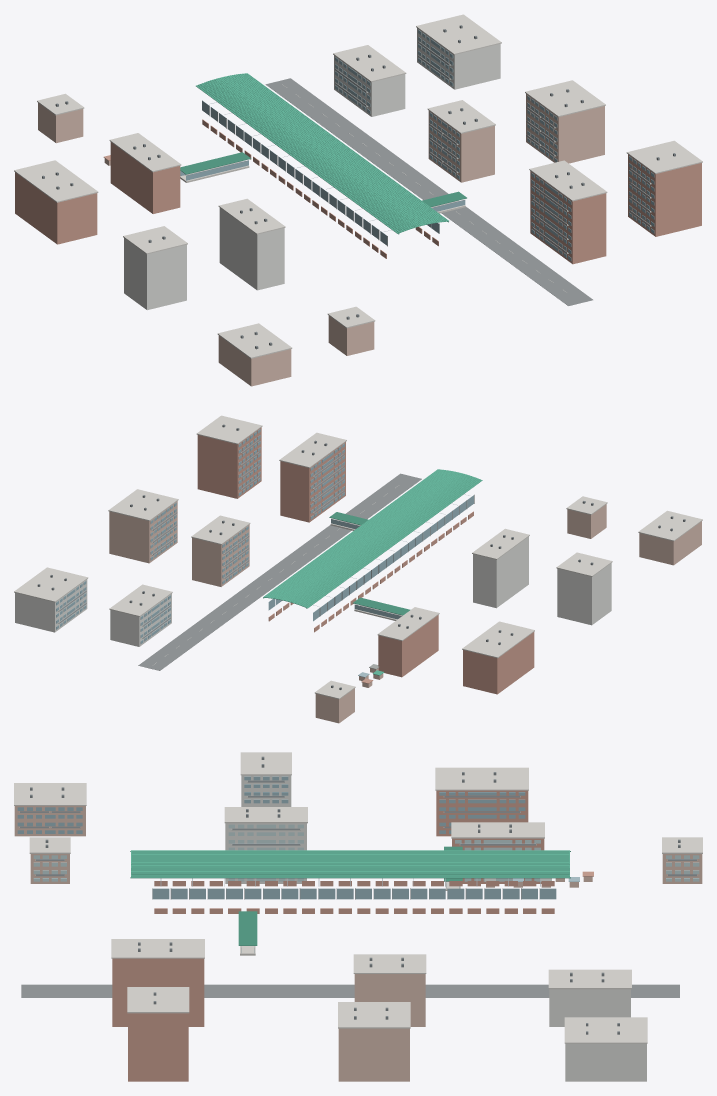
3 views of the same model, one above another, from view 1: azimuth 30°, elevation 25°; view 2: azimuth 150°, elevation 25°; view 3: azimuth 270°, elevation 25° (orthographic). The views are drawn at different scales.
Visible parts, largest first — view 1: Station 7 photo-informed architecture and surroundings; view 2: Station 7 photo-informed architecture and surroundings; view 3: Station 7 photo-informed architecture and surroundings.
Part boxes in pixels (bbox=[...]): Station 7 photo-informed architecture and surroundings: bbox=[14, 14, 702, 386]; Station 7 photo-informed architecture and surroundings: bbox=[14, 415, 702, 723]; Station 7 photo-informed architecture and surroundings: bbox=[14, 752, 702, 1081].
Size of the model in its own units: 240 by 30.69 by 262.
